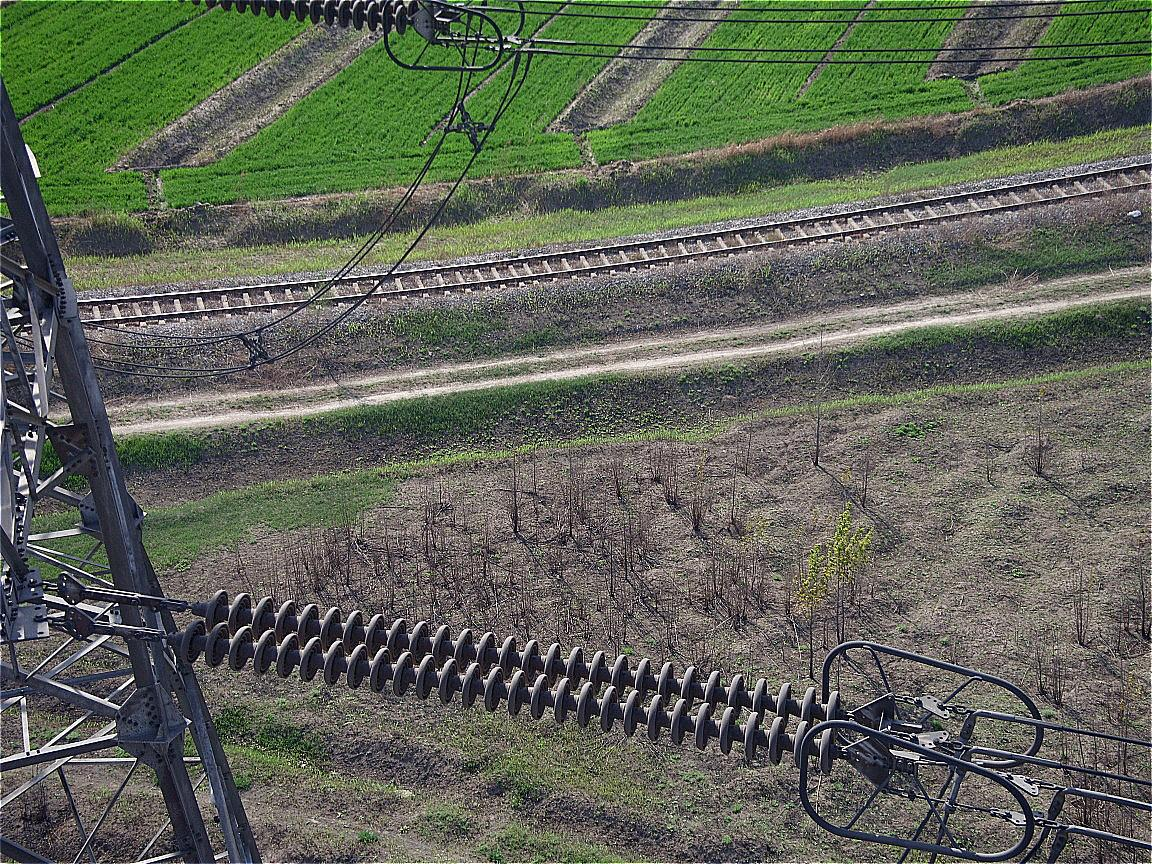insultor1: (183, 589, 842, 771)
